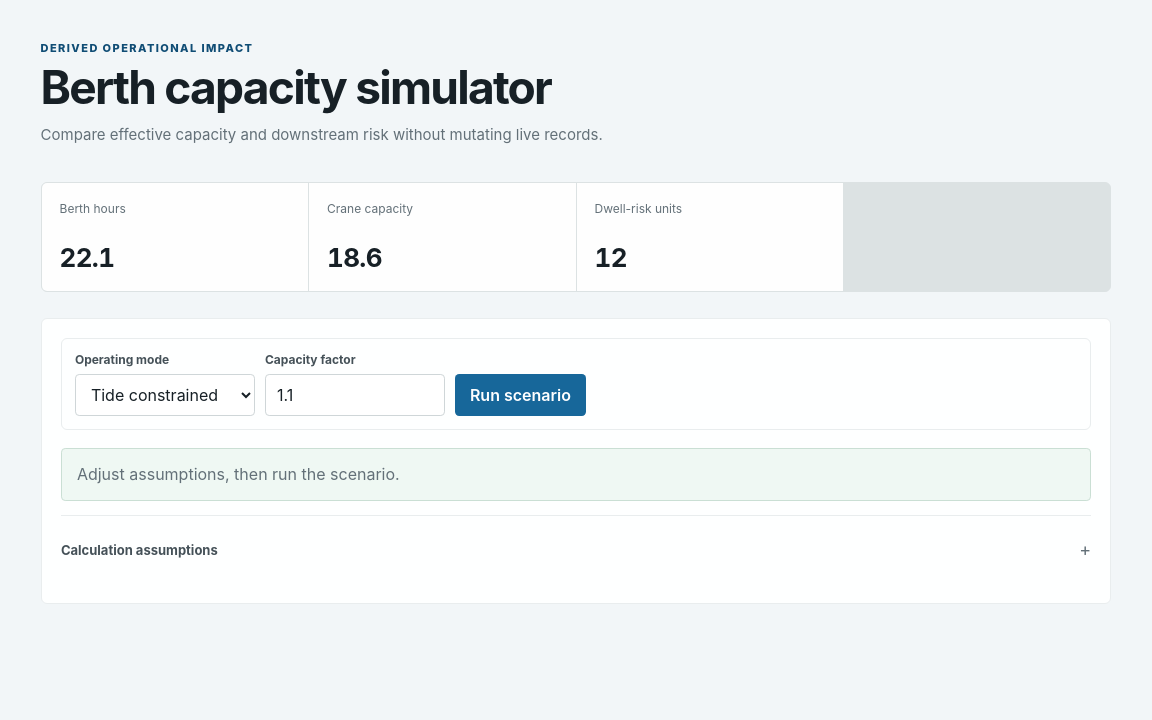
Test case: PortFlow connected surfaces › runs a deterministic scenario asynchronously
What coordinates should you click on to do the following:
click the button "Run scenario"
I would click on:
 (520, 395)
Its box is x1=455 y1=374 x2=586 y2=416.
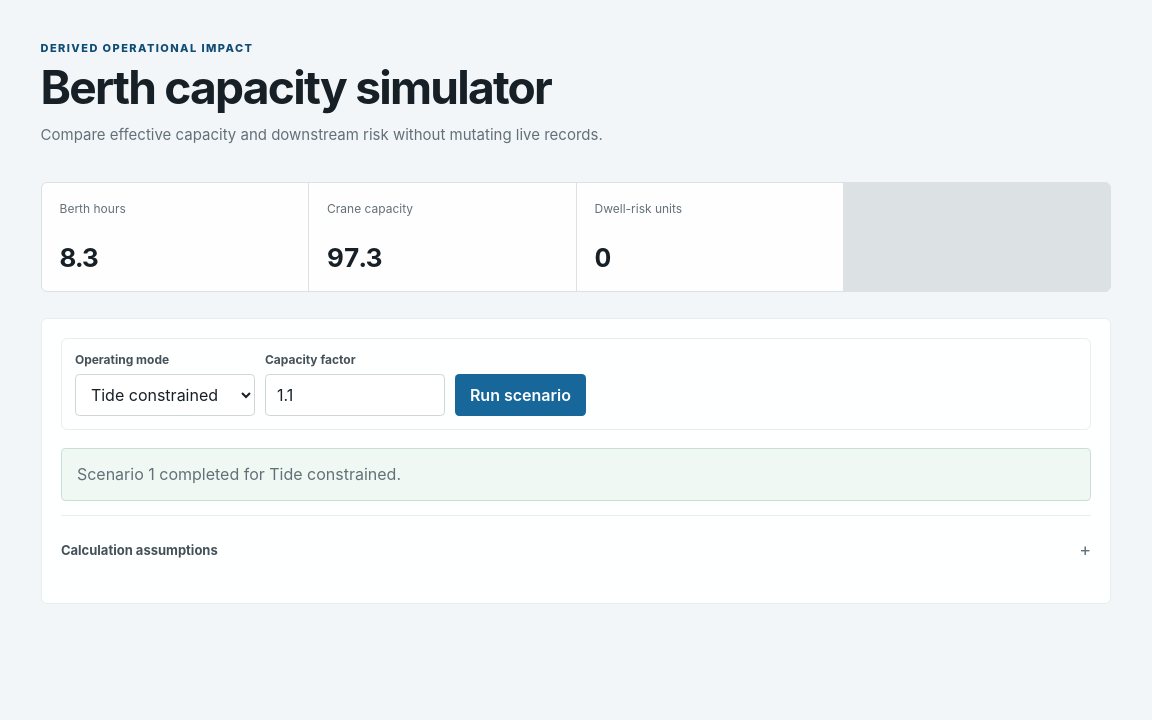
Expected: the message shows "completed", x1=77 y1=464 x2=401 y2=484
